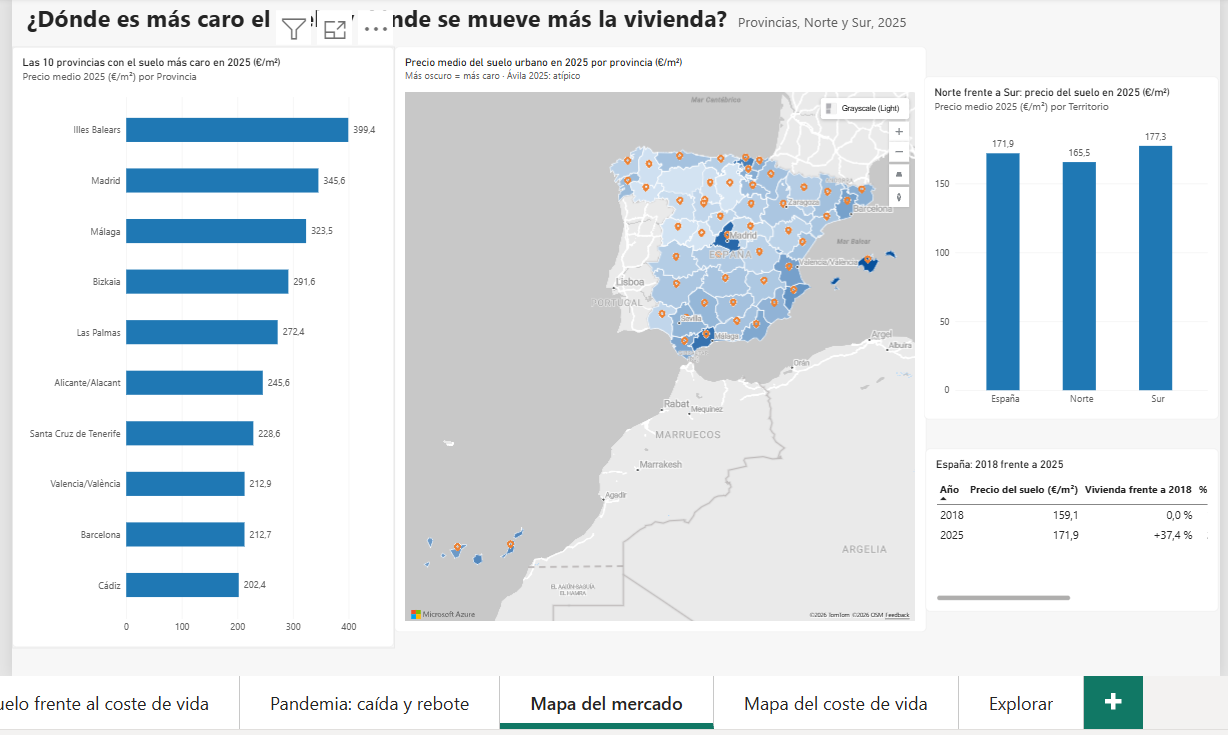

This screenshot's page, from the dashboard's own definition file:
{"tool":"powerbi","page":{"name":"Mapa del mercado","canvas":[1920,1080],"ordinal":2},"visuals":[{"type":"textbox","box":[24,8,1500,88],"z":0},{"type":"slicer","fields":{"Values":["MART_TERRITORIO.ANIO"]},"box":[1556,12,340,76],"z":1000},{"type":"azureMap","fields":{"Category":["MART_TERRITORIO.PAIS","MART_TERRITORIO.TERRITORIO"]},"box":[0,105,930.5,952],"z":2000},{"type":"tableEx","fields":{"Values":["MART_TERRITORIO.ANIO","Medidas.C3 Precio medio","Medidas.C3 Puesto (texto)","Medidas.C3 Crecimiento de la vivienda","Medidas.C3 % vivienda nueva","Medidas.C3 % vivienda protegida","Medidas.C3 Viviendas por compraventa de suelo"]},"box":[948,104,948,200],"z":3000},{"type":"clusteredBarChart","fields":{"Category":["MART_TERRITORIO.TERRITORIO"],"Y":["Medidas.C3 Precio medio"]},"box":[948,320,600,736],"z":4000},{"type":"clusteredColumnChart","fields":{"Category":["MART_TERRITORIO.TERRITORIO"],"Y":["Medidas.C3 Precio medio"]},"box":[1564,320,332,736],"z":5000}]}

Visuals, with their boxes on the page's 1920x1080 design canvas (x1, y1, x2, y2). These are canvas units, not pixel positions in the 1228x735 screenshot, which may show the page scaled, cropped or inside an application window:
textbox: (left=24, top=8, right=1524, bottom=96)
slicer - MART_TERRITORIO.ANIO: (left=1556, top=12, right=1896, bottom=88)
azureMap - MART_TERRITORIO.PAIS x MART_TERRITORIO.TERRITORIO: (left=0, top=105, right=930, bottom=1057)
tableEx - MART_TERRITORIO.ANIO x Medidas.C3 Precio medio: (left=948, top=104, right=1896, bottom=304)
clusteredBarChart - MART_TERRITORIO.TERRITORIO x Medidas.C3 Precio medio: (left=948, top=320, right=1548, bottom=1056)
clusteredColumnChart - MART_TERRITORIO.TERRITORIO x Medidas.C3 Precio medio: (left=1564, top=320, right=1896, bottom=1056)
